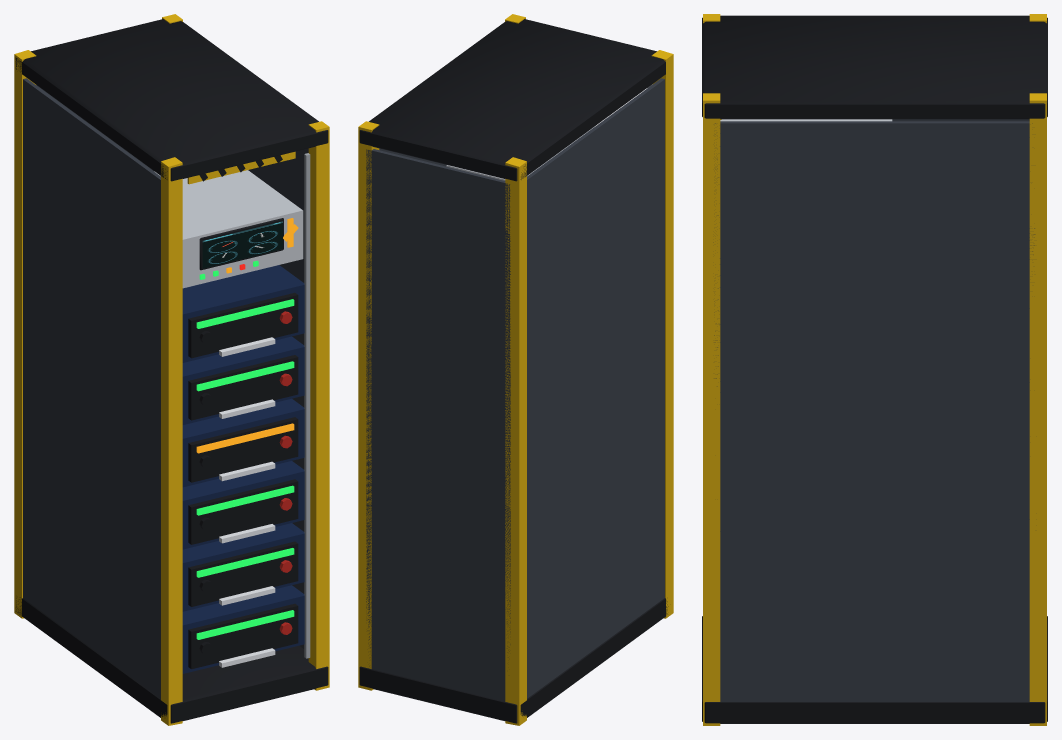
The model's file is rack_ups_battery_rack.glb.
The picture shows the model from 3 angles, left to right: view 1: azimuth 30°, elevation 25°; view 2: azimuth 150°, elevation 25°; view 3: azimuth 270°, elevation 25°; orthographic projection. The views are drawn at different scales.
Visible parts, largest first — view 1: rack_ups_battery_rack; view 2: rack_ups_battery_rack; view 3: rack_ups_battery_rack.
Boxes of the visible parts, box(x1,y1,x2,y2) form: rack_ups_battery_rack: box(14, 14, 329, 725); rack_ups_battery_rack: box(358, 14, 673, 725); rack_ups_battery_rack: box(702, 14, 1047, 725).
Bounding box in the file's own units: 0.606 × 2.01 × 1.01.
Materials: 12 (1 with a texture image).
